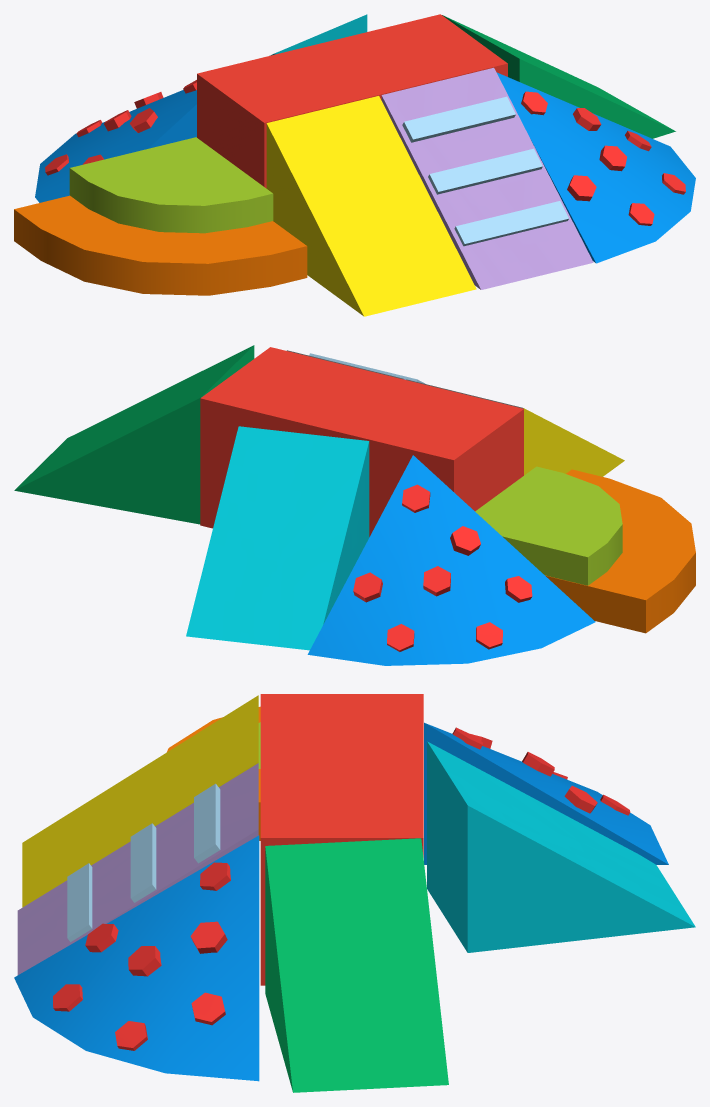
The model's file is for_kids_007.glb.
3 views of the same model, one above another, from view 1: azimuth 30°, elevation 25°; view 2: azimuth 150°, elevation 25°; view 3: azimuth 270°, elevation 25° (orthographic). The views are drawn at different scales.
Visible parts, largest first — view 1: for_kids_007; view 2: for_kids_007; view 3: for_kids_007.
Boxes of the visible parts, box(x1,y1,x2,y2) form: for_kids_007: box(14, 14, 695, 316); for_kids_007: box(14, 345, 695, 665); for_kids_007: box(14, 694, 695, 1092).
Bounding box in the file's own units: 3.07 × 0.6146 × 2.46.
Materials: 1 (1 with a texture image).
